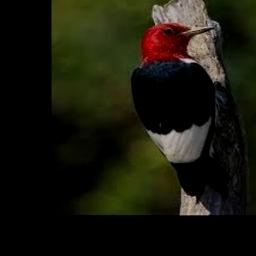Woodpecker: (128, 23, 229, 202)
